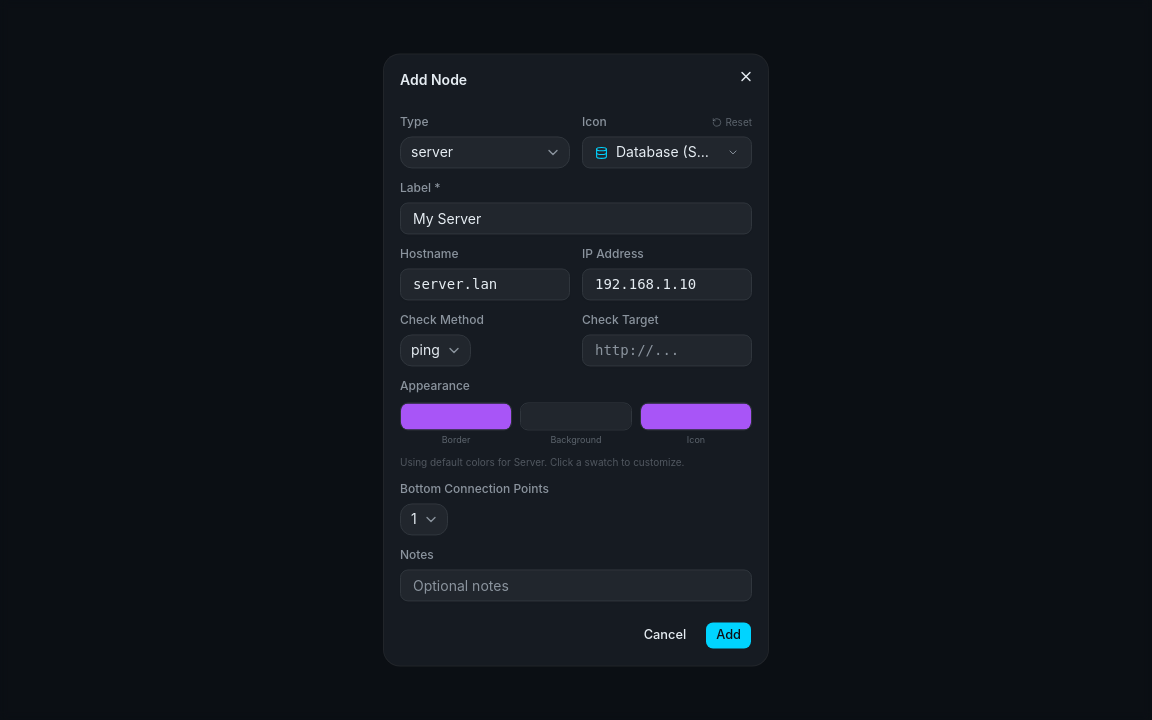
Scenario: NodeModal › resets custom_icon and shows Default on Reset click
Click the button "Reset" at (732, 122), box [712,115,752,130]
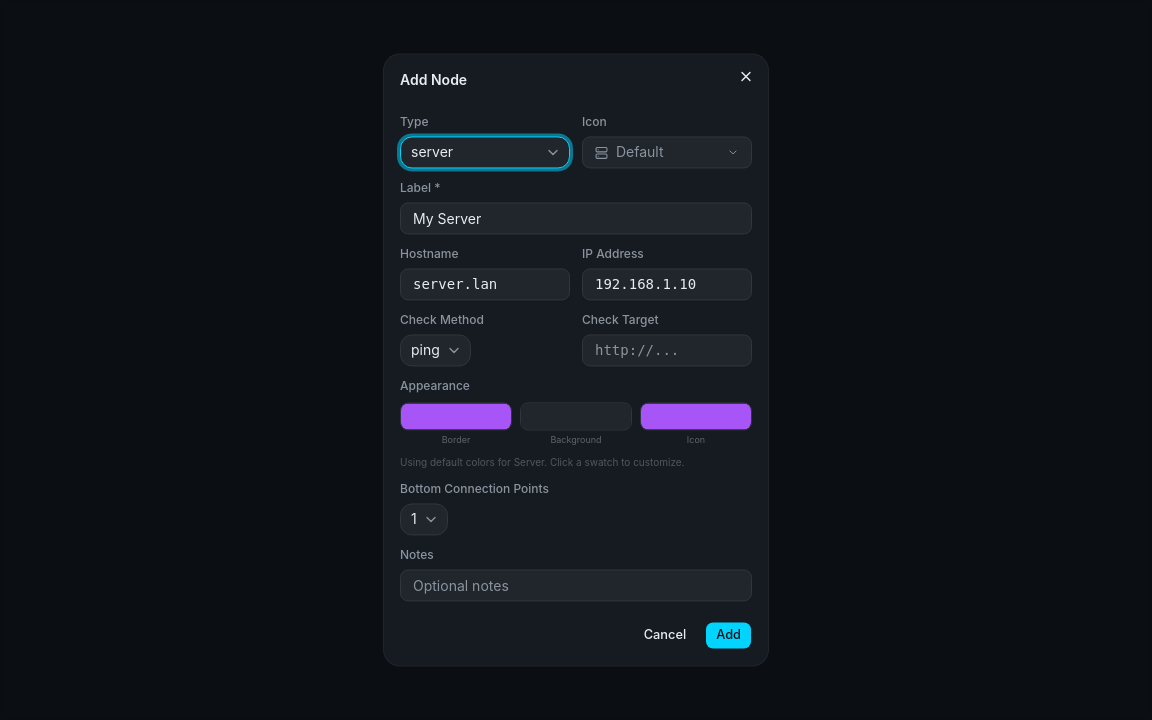
Expected: the text "Default" is shown, [616,142,664,162]
